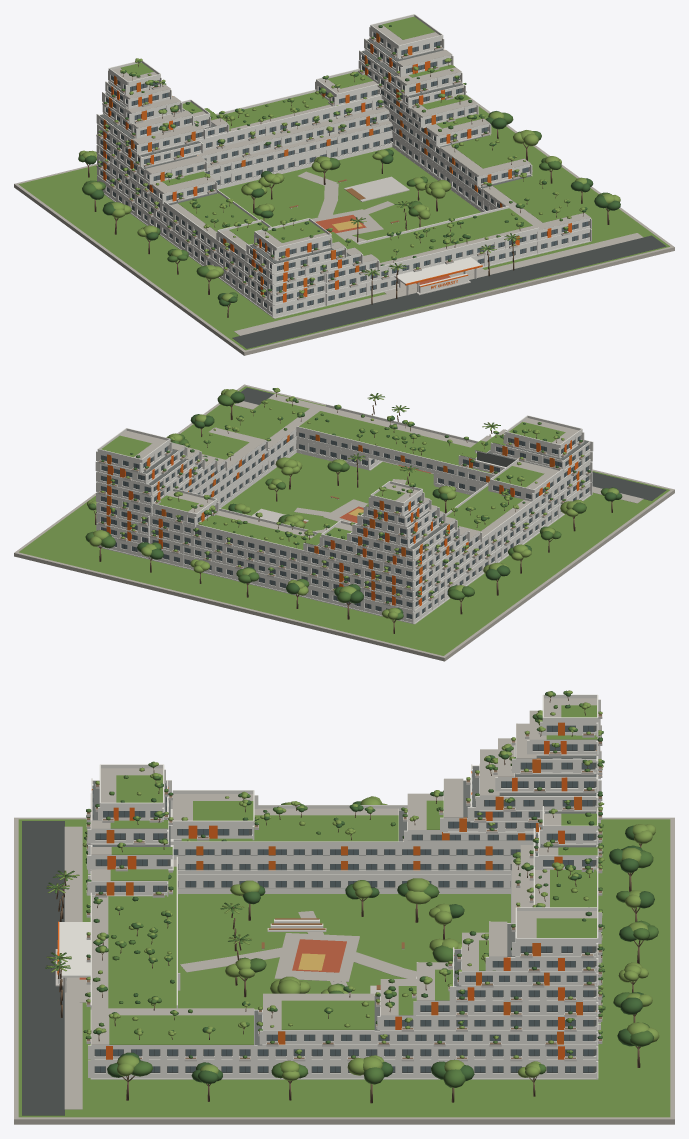
The model's file is fpt-campus.glb.
3 views of the same model, one above another, from view 1: azimuth 30°, elevation 25°; view 2: azimuth 150°, elevation 25°; view 3: azimuth 270°, elevation 25° (orthographic). The views are drawn at different scales.
Visible parts, largest first — view 1: FPT_FACADES_concrete_off_white, FPT_SITE_BOUNDARY, FPT_ROOFTOP_GARDENS_grass_green, FPT_ROOFTOP_GARDENS_pavement, FPT_WINDOWS_glass_neutral, FPT_COURTYARD_grass_green, FPT_ROOFTOP_GARDENS_concrete_white, FPT_TERRAIN_asphalt, FPT_VEGETATION_foliage_light, FPT_TERRAIN_concrete_weathered, FPT_FLOOR_SLABS_concrete_white, FPT_PATHWAYS_pavement (+13 smaller); view 2: FPT_FACADES_concrete_off_white, FPT_SITE_BOUNDARY, FPT_ROOFTOP_GARDENS_grass_green, FPT_WINDOWS_glass_neutral, FPT_COURTYARD_grass_green, FPT_ROOFTOP_GARDENS_concrete_white, FPT_ROOFTOP_GARDENS_pavement, FPT_VEGETATION_foliage_light, FPT_FLOOR_SLABS_concrete_white, FPT_TERRAIN_concrete_weathered, FPT_VEGETATION_foliage_medium, FPT_WINDOWS_window_frame (+11 smaller); view 3: FPT_SITE_BOUNDARY, FPT_FACADES_concrete_off_white, FPT_ROOFTOP_GARDENS_grass_green, FPT_COURTYARD_grass_green, FPT_ROOFTOP_GARDENS_pavement, FPT_WINDOWS_glass_neutral, FPT_TERRAIN_asphalt, FPT_VEGETATION_foliage_light, FPT_TERRAIN_concrete_weathered, FPT_PATHWAYS_pavement, FPT_ROOFTOP_GARDENS_concrete_white, FPT_FLOOR_SLABS_concrete_white (+13 smaller).
Boxes of the visible parts, bbox=[...] form: FPT_FACADES_concrete_off_white: bbox=[96, 27, 591, 317]; FPT_SITE_BOUNDARY: bbox=[18, 106, 669, 350]; FPT_ROOFTOP_GARDENS_grass_green: bbox=[120, 16, 584, 262]; FPT_ROOFTOP_GARDENS_pavement: bbox=[112, 24, 590, 266]; FPT_WINDOWS_glass_neutral: bbox=[100, 33, 587, 313]; FPT_COURTYARD_grass_green: bbox=[218, 147, 480, 240]; FPT_ROOFTOP_GARDENS_concrete_white: bbox=[97, 14, 590, 282]; FPT_TERRAIN_asphalt: bbox=[232, 235, 666, 348]; FPT_VEGETATION_foliage_light: bbox=[79, 58, 620, 301]; FPT_TERRAIN_concrete_weathered: bbox=[14, 94, 674, 355]; FPT_FLOOR_SLABS_concrete_white: bbox=[97, 41, 590, 318]; FPT_PATHWAYS_pavement: bbox=[234, 171, 643, 335]; FPT_FACADES_concrete_off_white: bbox=[95, 394, 593, 623]; FPT_SITE_BOUNDARY: bbox=[19, 386, 669, 655]; FPT_ROOFTOP_GARDENS_grass_green: bbox=[101, 398, 565, 549]; FPT_WINDOWS_glass_neutral: bbox=[101, 432, 588, 618]; FPT_COURTYARD_grass_green: bbox=[221, 453, 470, 531]; FPT_ROOFTOP_GARDENS_concrete_white: bbox=[97, 404, 590, 589]; FPT_ROOFTOP_GARDENS_pavement: bbox=[120, 394, 578, 538]; FPT_VEGETATION_foliage_light: bbox=[87, 388, 619, 619]; FPT_FLOOR_SLABS_concrete_white: bbox=[97, 439, 591, 624]; FPT_TERRAIN_concrete_weathered: bbox=[14, 384, 674, 661]; FPT_VEGETATION_foliage_medium: bbox=[85, 393, 608, 619]; FPT_WINDOWS_window_frame: bbox=[101, 433, 588, 618]; FPT_SITE_BOUNDARY: bbox=[18, 819, 670, 1117]; FPT_FACADES_concrete_off_white: bbox=[87, 699, 601, 1079]; FPT_ROOFTOP_GARDENS_grass_green: bbox=[108, 705, 597, 1044]; FPT_COURTYARD_grass_green: bbox=[178, 894, 510, 1009]; FPT_ROOFTOP_GARDENS_pavement: bbox=[91, 698, 596, 1044]; FPT_WINDOWS_glass_neutral: bbox=[93, 725, 595, 1072]; FPT_TERRAIN_asphalt: bbox=[22, 821, 64, 1115]; FPT_VEGETATION_foliage_light: bbox=[46, 690, 659, 1080]; FPT_TERRAIN_concrete_weathered: bbox=[14, 817, 674, 1124]; FPT_PATHWAYS_pavement: bbox=[64, 826, 416, 1109]; FPT_ROOFTOP_GARDENS_concrete_white: bbox=[90, 694, 598, 1045]; FPT_FLOOR_SLABS_concrete_white: bbox=[90, 722, 598, 1079].
Size of the model in its own units: 158 by 45.11 by 146.
